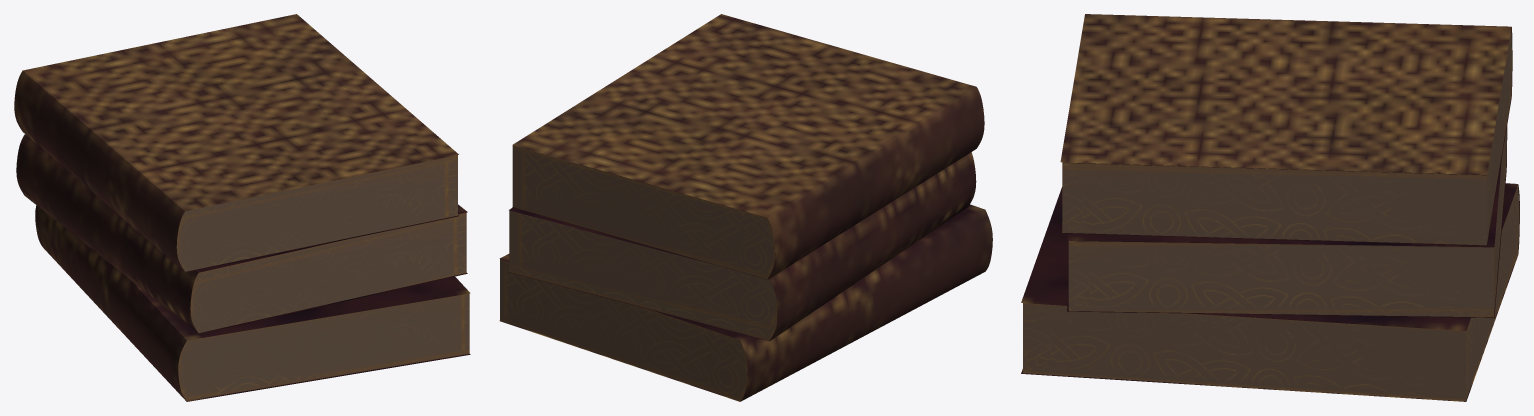
The model's file is SM_BookPile13.fbx.
3 renders of one model, left to right at view 1: azimuth 30°, elevation 25°; view 2: azimuth 150°, elevation 25°; view 3: azimuth 270°, elevation 25°, orthographic. The views are drawn at different scales.
Visible parts, largest first — view 1: SM_BookPile13_LOD0; view 2: SM_BookPile13_LOD0; view 3: SM_BookPile13_LOD0.
Part boxes in pixels (x1=…): SM_BookPile13_LOD0: x1=14, y1=14, x2=470, y2=401; SM_BookPile13_LOD0: x1=499, y1=14, x2=992, y2=401; SM_BookPile13_LOD0: x1=1021, y1=14, x2=1519, y2=401.
Size of the model in its own units: 39.47 by 46.29 by 21.97.
Materials: 1 (1 with a texture image).
